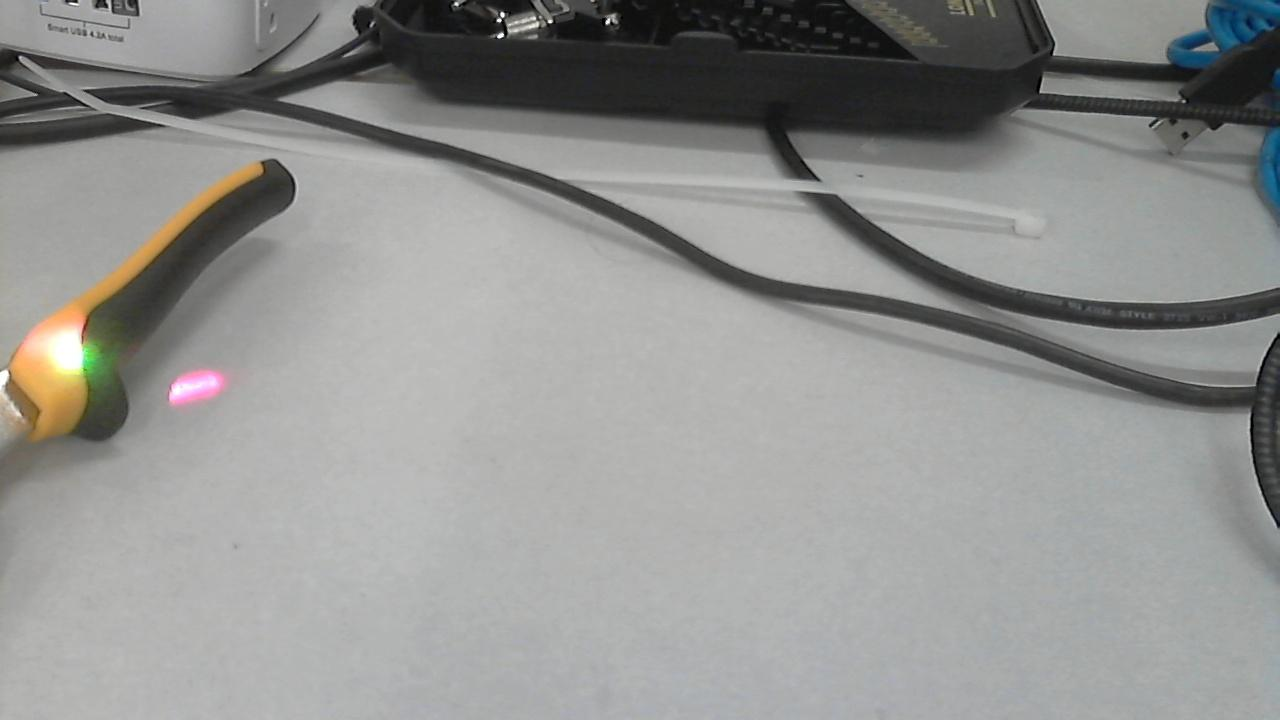Object slip joint pliers - Material plastic - Color yellow - Pdfname favaeaevcsr: (23, 300, 131, 393)
